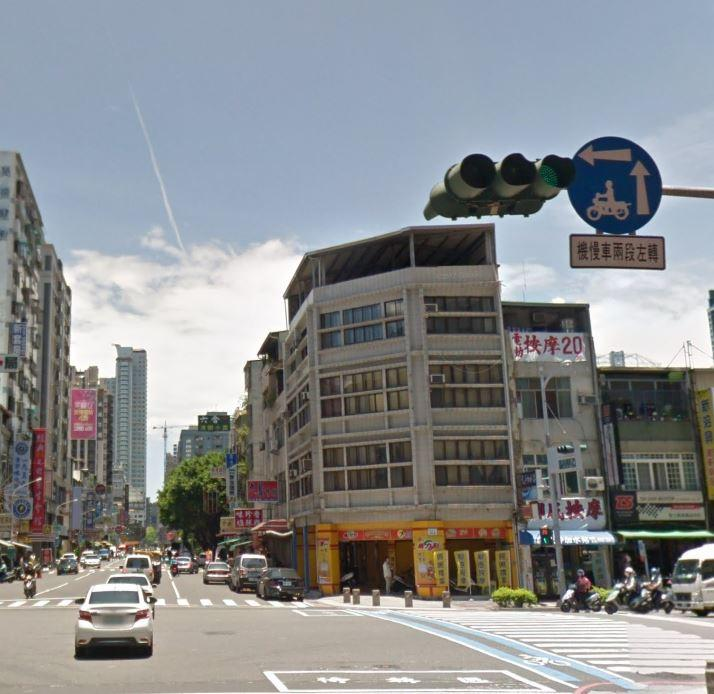green_traffic_light: (411, 142, 573, 228)
